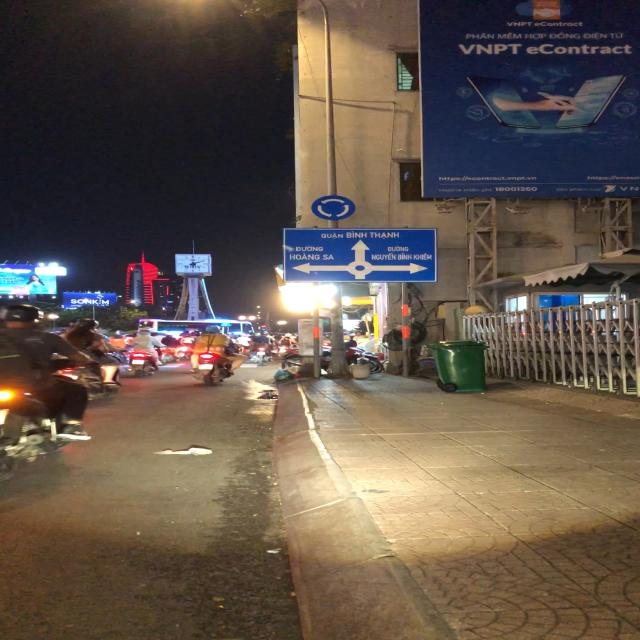Bien bao noi giao nhau chay theo vong xuyen: (310, 193, 356, 221)
